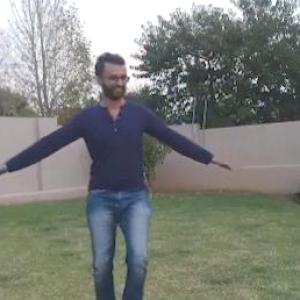land: (1, 27, 264, 299)
